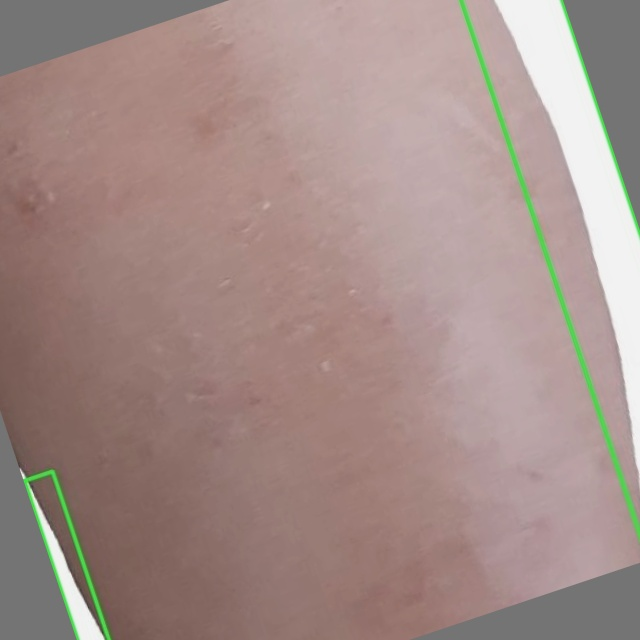Contact Dermatitis: (461, 0, 639, 533), (24, 472, 109, 639)
